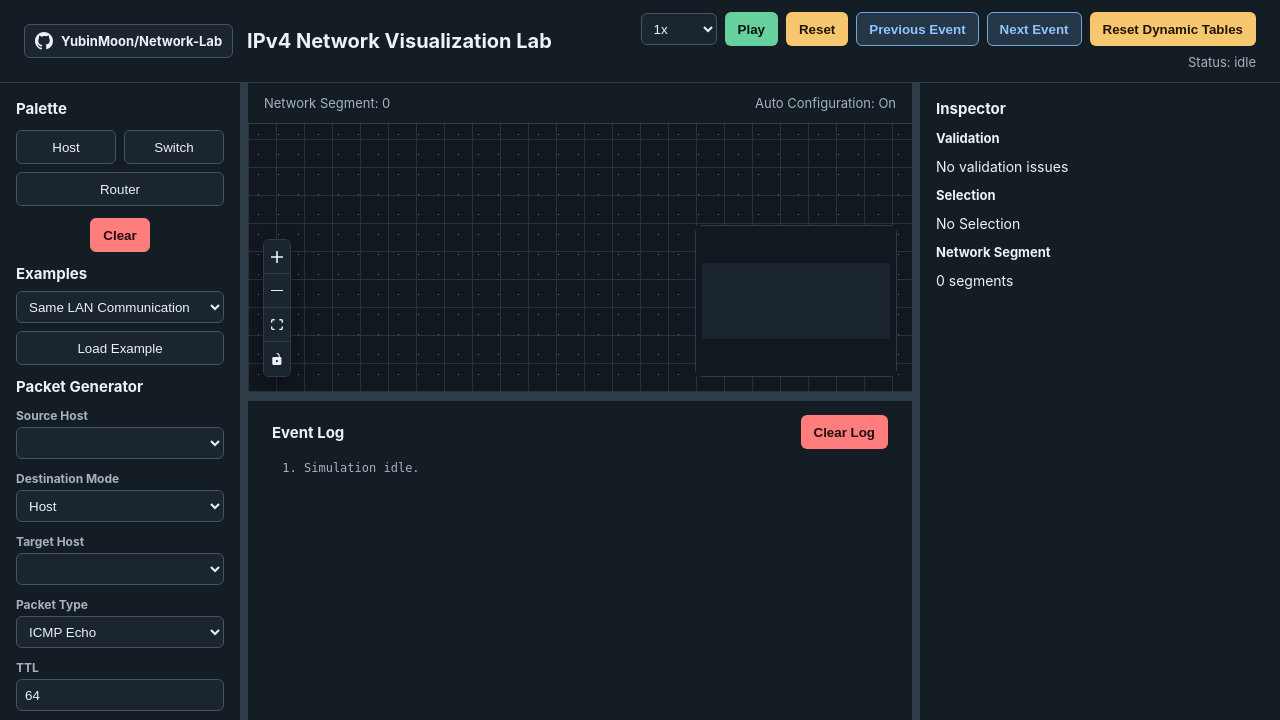
Test case: App › does not show endpoint MAC addresses for switch interfaces
Select "Default Gateway Forwarding" in the 2nd dropdown. click: (120, 307)
box: left=16, top=291, right=224, bottom=323
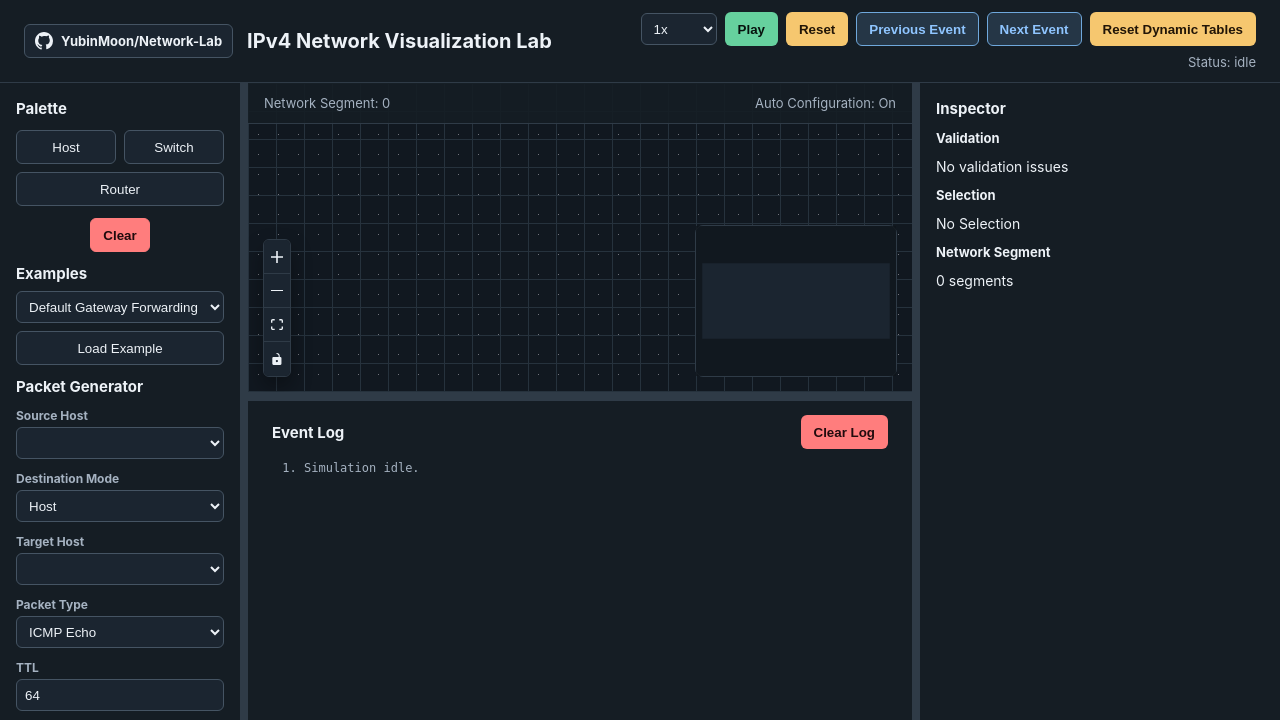
Click the button "Load Example". click: (120, 348)
box: left=16, top=331, right=224, bottom=365
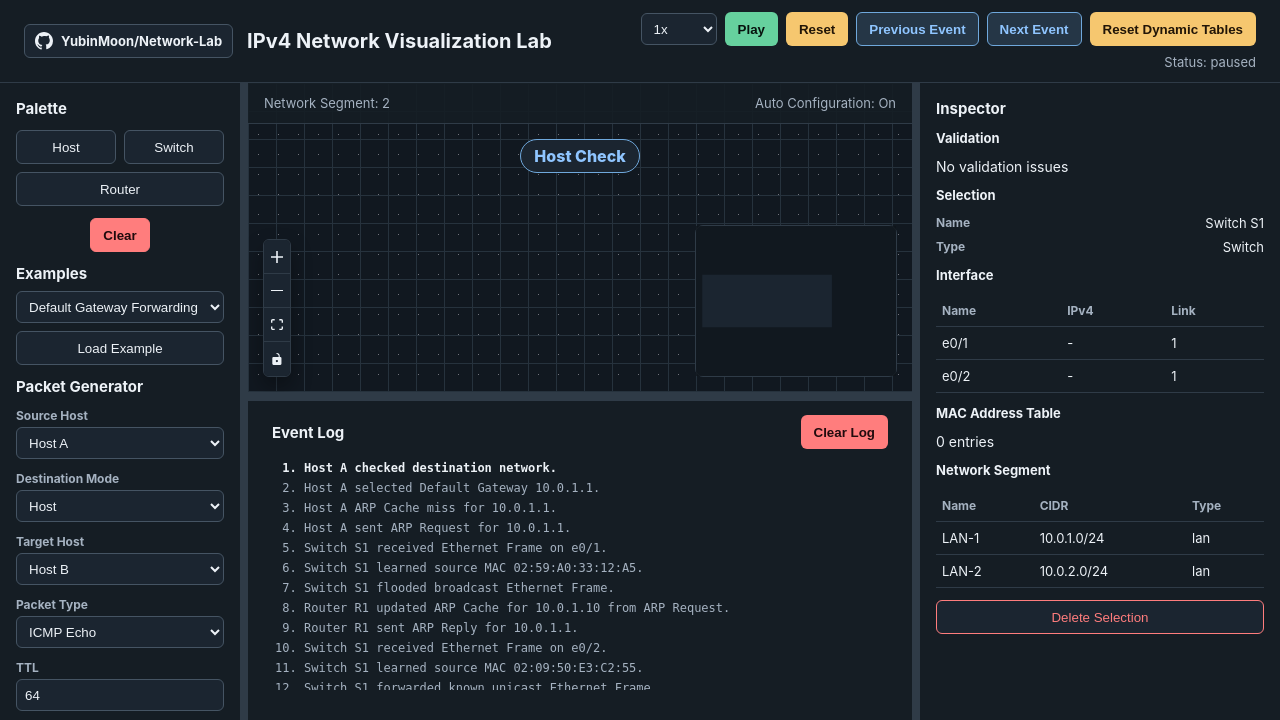
Check: the text "e0/1" is shown, box left=936, top=326, right=1061, bottom=360
